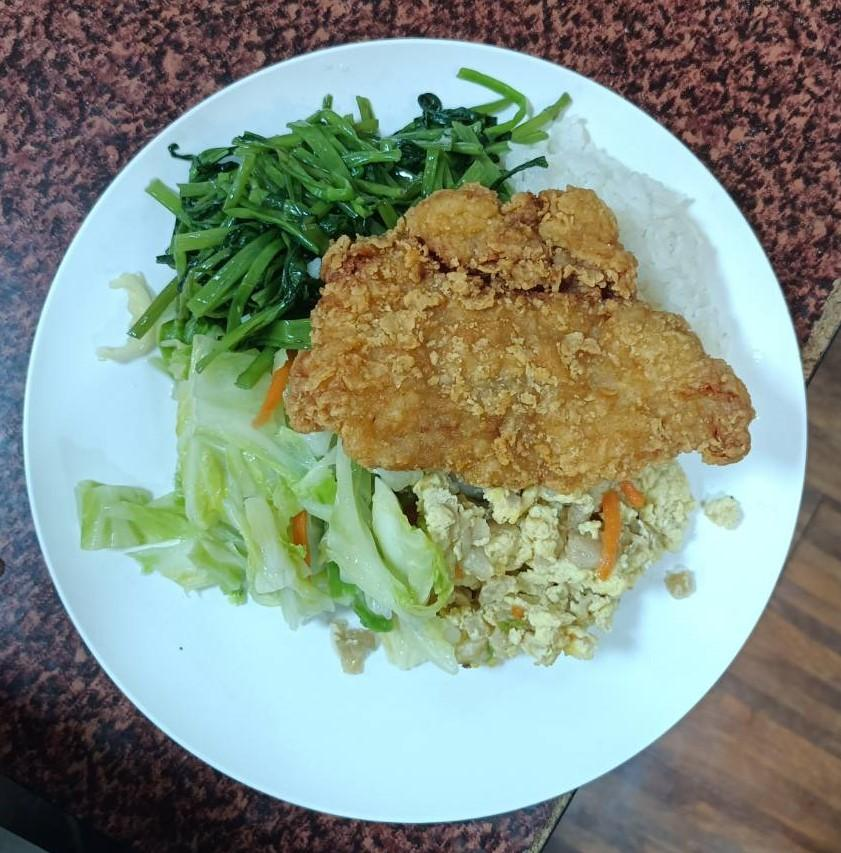big fried chicken leg: (18, 14, 823, 845)
big herbal chicken leg: (380, 156, 765, 474)
braised fish fillet: (136, 95, 487, 325), (128, 360, 412, 629), (436, 477, 695, 674)
braised pork: (300, 188, 746, 486)
